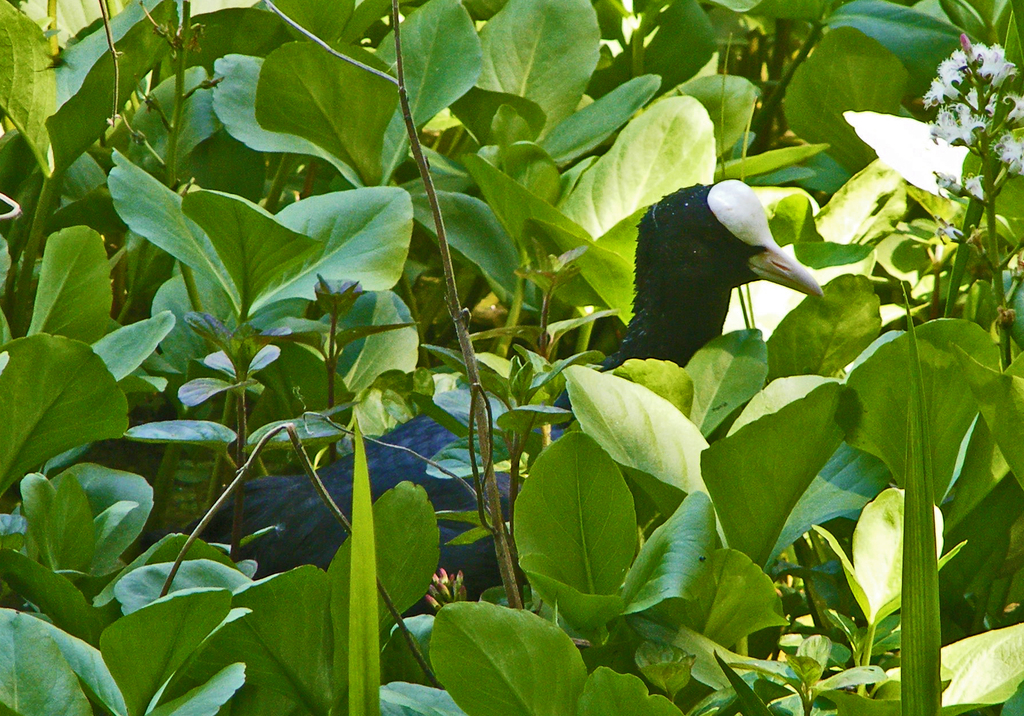Animal: (122, 177, 821, 619)
